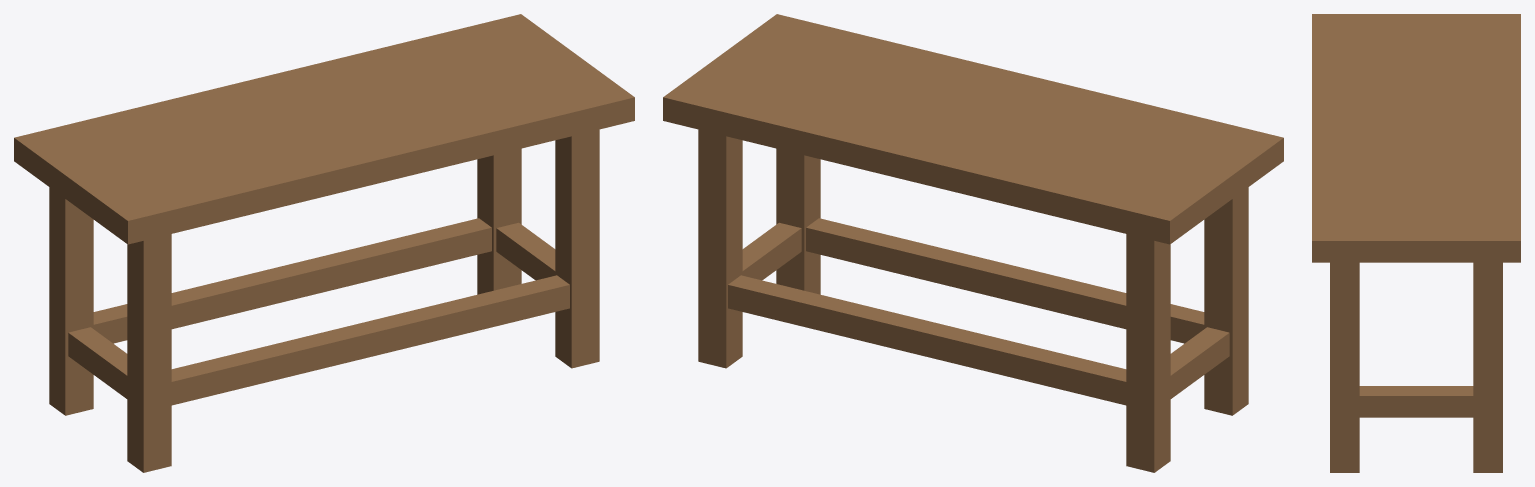
The model's file is workbench.glb.
The picture shows the model from 3 angles, left to right: view 1: azimuth 30°, elevation 25°; view 2: azimuth 150°, elevation 25°; view 3: azimuth 270°, elevation 25°; orthographic projection. The views are drawn at different scales.
Parts seen in each view (by area): view 1: top, rail_back, rail_front, leg_2, leg_3, leg_0, leg_1, rail_left, rail_right; view 2: top, rail_front, rail_back, leg_0, leg_1, leg_2, leg_3, rail_left, rail_right; view 3: top, leg_1, leg_3, rail_right.
Boxes of the visible parts, x1=… form: top: x1=14, y1=14, x2=634, y2=244; rail_back: x1=171, y1=275, x2=569, y2=405; rail_front: x1=93, y1=218, x2=491, y2=343; leg_2: x1=127, y1=234, x2=171, y2=472; leg_3: x1=555, y1=129, x2=599, y2=368; leg_0: x1=49, y1=187, x2=93, y2=415; leg_1: x1=477, y1=148, x2=521, y2=294; rail_left: x1=68, y1=327, x2=127, y2=398; rail_right: x1=496, y1=222, x2=555, y2=280; top: x1=663, y1=14, x2=1283, y2=244; rail_front: x1=728, y1=275, x2=1126, y2=405; rail_back: x1=806, y1=218, x2=1204, y2=343; leg_0: x1=1126, y1=234, x2=1170, y2=472; leg_1: x1=698, y1=129, x2=742, y2=368; leg_2: x1=1204, y1=187, x2=1248, y2=415; leg_3: x1=776, y1=148, x2=820, y2=294; rail_left: x1=1170, y1=327, x2=1229, y2=398; rail_right: x1=742, y1=222, x2=801, y2=280; top: x1=1312, y1=14, x2=1520, y2=262; leg_1: x1=1473, y1=262, x2=1502, y2=472; leg_3: x1=1330, y1=262, x2=1359, y2=472; rail_right: x1=1359, y1=386, x2=1473, y2=417.
Bounding box in the file's own units: 1.8 × 0.9 × 0.7.
